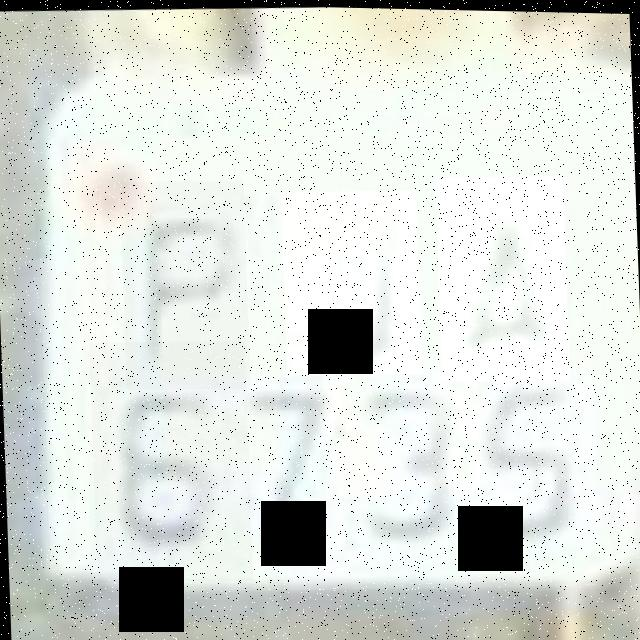3: (321, 345, 484, 568)
5: (449, 354, 600, 558)
6: (89, 337, 252, 585)
7: (213, 338, 361, 574)
B: (435, 171, 570, 381)
J: (280, 185, 422, 377)
P: (119, 177, 250, 391)
